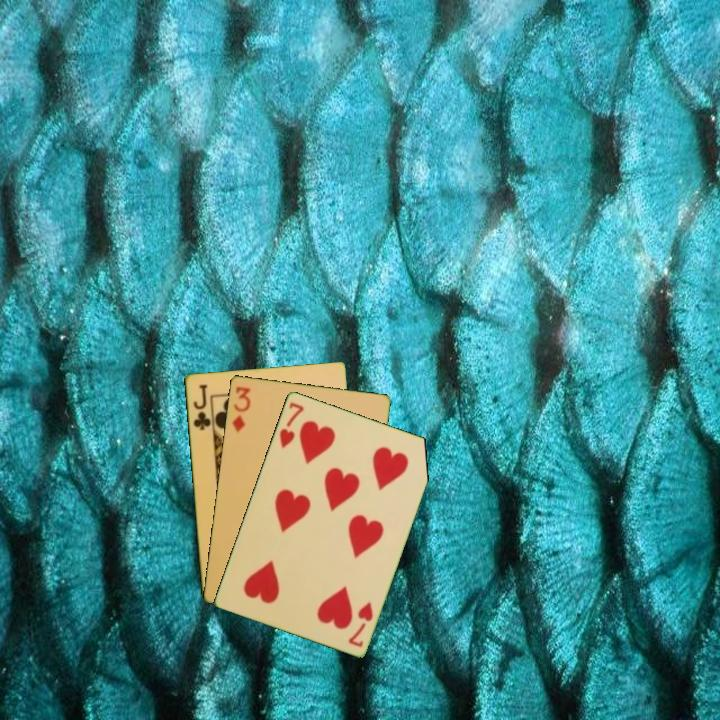3d: (228, 383, 253, 434)
7h: (275, 398, 307, 451), (344, 598, 376, 650)
Jc: (189, 381, 213, 433)
